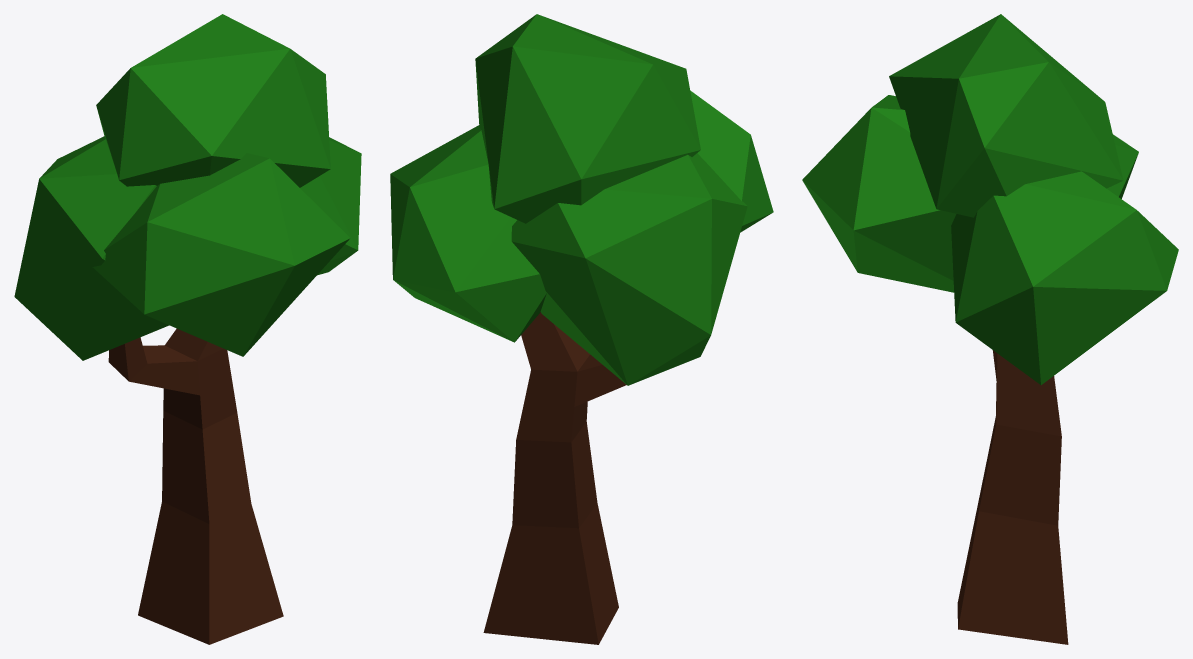
File: Tree.glb
3 views of the same model, side by side, from view 1: azimuth 30°, elevation 25°; view 2: azimuth 150°, elevation 25°; view 3: azimuth 270°, elevation 25° (orthographic). The views are drawn at different scales.
Parts seen in each view (by area): view 1: Leafs, Trunk; view 2: Leafs, Trunk; view 3: Leafs, Trunk.
Boxes of the visible parts, x1,y1,x2,y2 form: Leafs: [14, 14, 361, 360]; Trunk: [108, 328, 283, 644]; Leafs: [390, 14, 773, 385]; Trunk: [483, 312, 626, 644]; Leafs: [802, 14, 1178, 384]; Trunk: [957, 350, 1068, 644].
Size of the model in its own units: 2.76 by 4.62 by 2.75.
